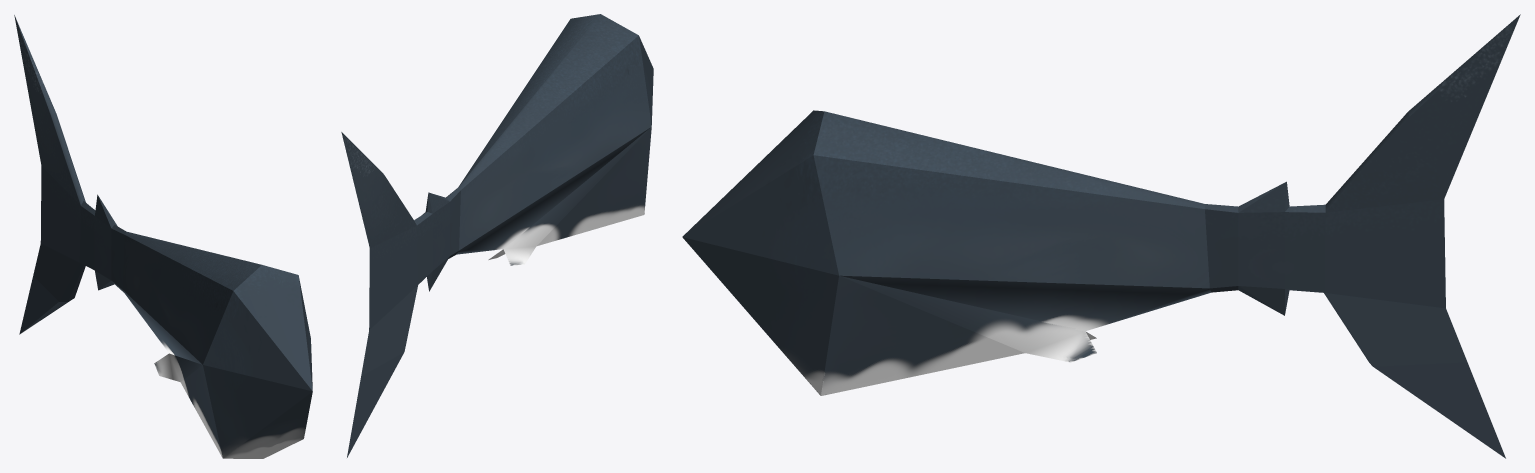
The model's file is SharkTail.obj.
3 views of the same model, side by side, from view 1: azimuth 30°, elevation 25°; view 2: azimuth 150°, elevation 25°; view 3: azimuth 270°, elevation 25° (orthographic). The views are drawn at different scales.
Parts seen in each view (by area): view 1: SharkTail:Mesh; view 2: SharkTail:Mesh; view 3: SharkTail:Mesh.
Part boxes in pixels (x1,y1,x2,y2): SharkTail:Mesh: (14, 15, 312, 458); SharkTail:Mesh: (341, 14, 653, 457); SharkTail:Mesh: (682, 14, 1520, 458).
Size of the model in its own units: 11.33 by 31.75 by 54.24.
Materials: 1 (1 with a texture image).
